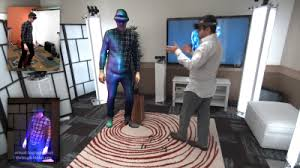hololens: (192, 20, 221, 33), (28, 14, 39, 21)
